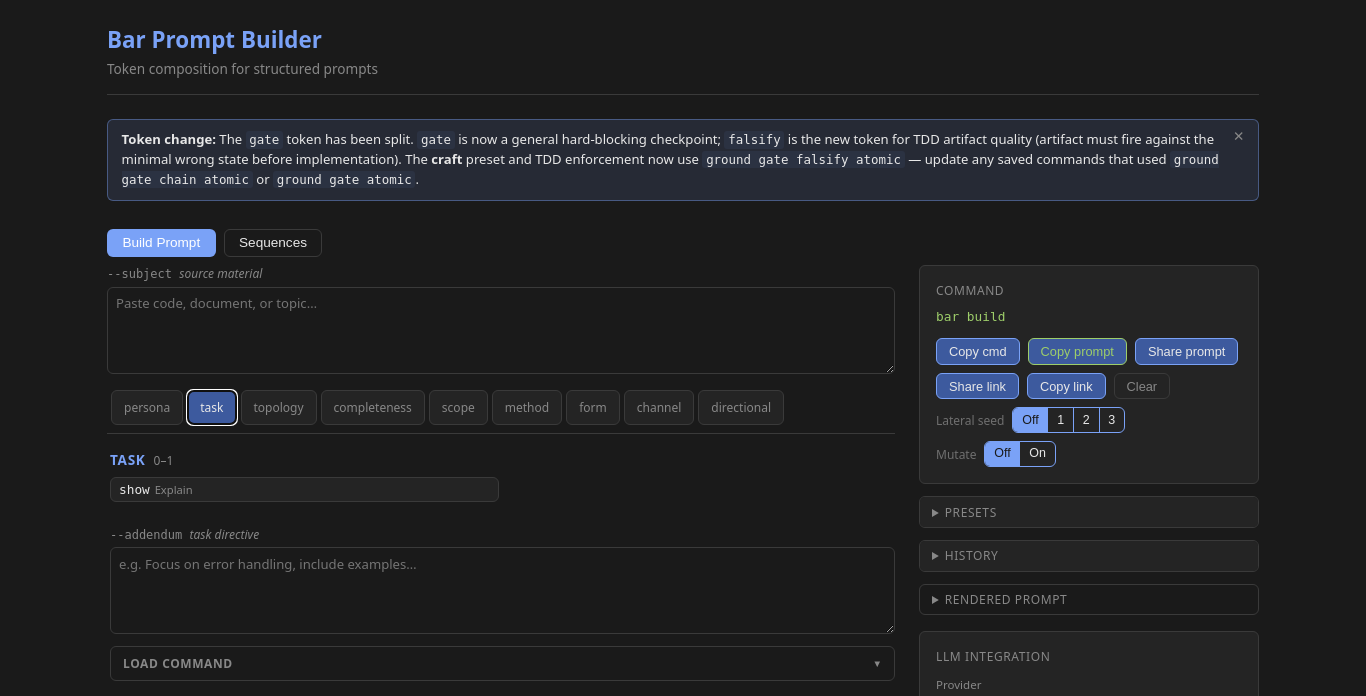
it: Page — Sequences mode › action steps are shown in the step list with a user badge
What coordinates should you click on to do the following:
click the button "Sequences"
I would click on:
 (273, 243)
Its box is [224, 229, 322, 257].
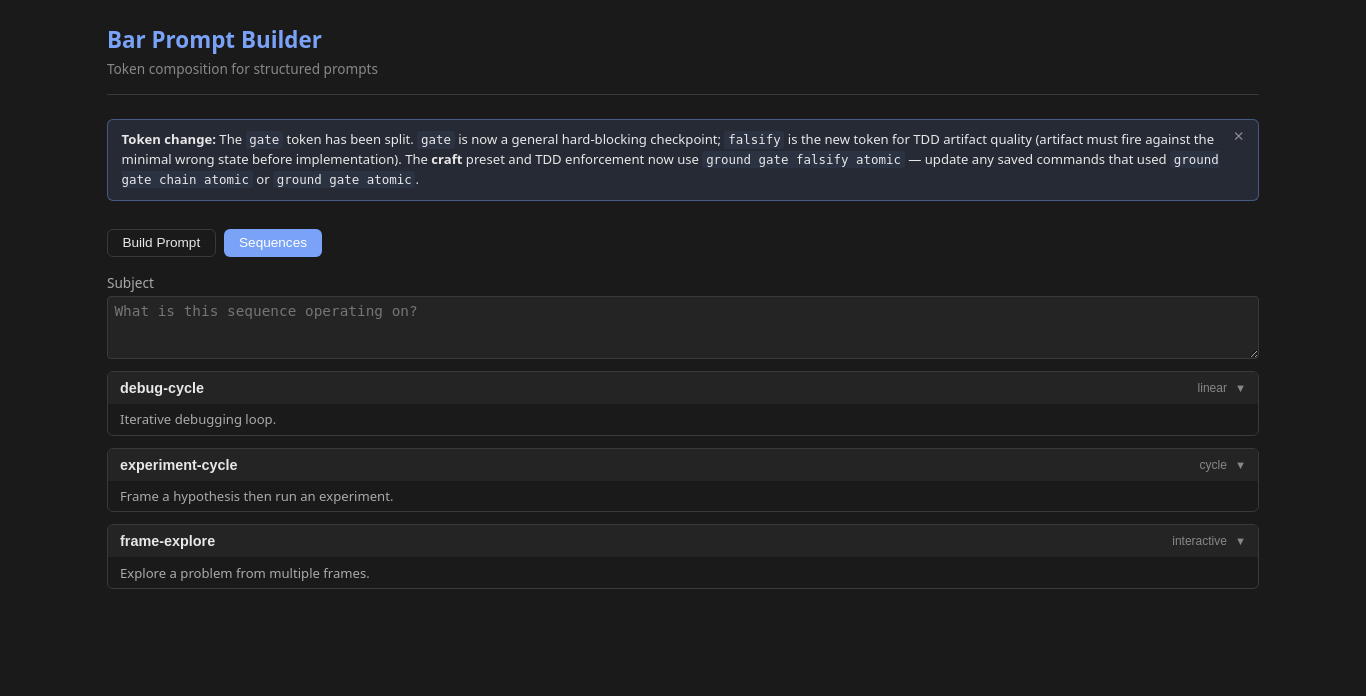
What coordinates should you click on to do the following:
click the button with class "seq-card-header" showing "experiment-cycle cycle ▼"
I would click on:
 (179, 465)
Its box is [108, 449, 1258, 481].
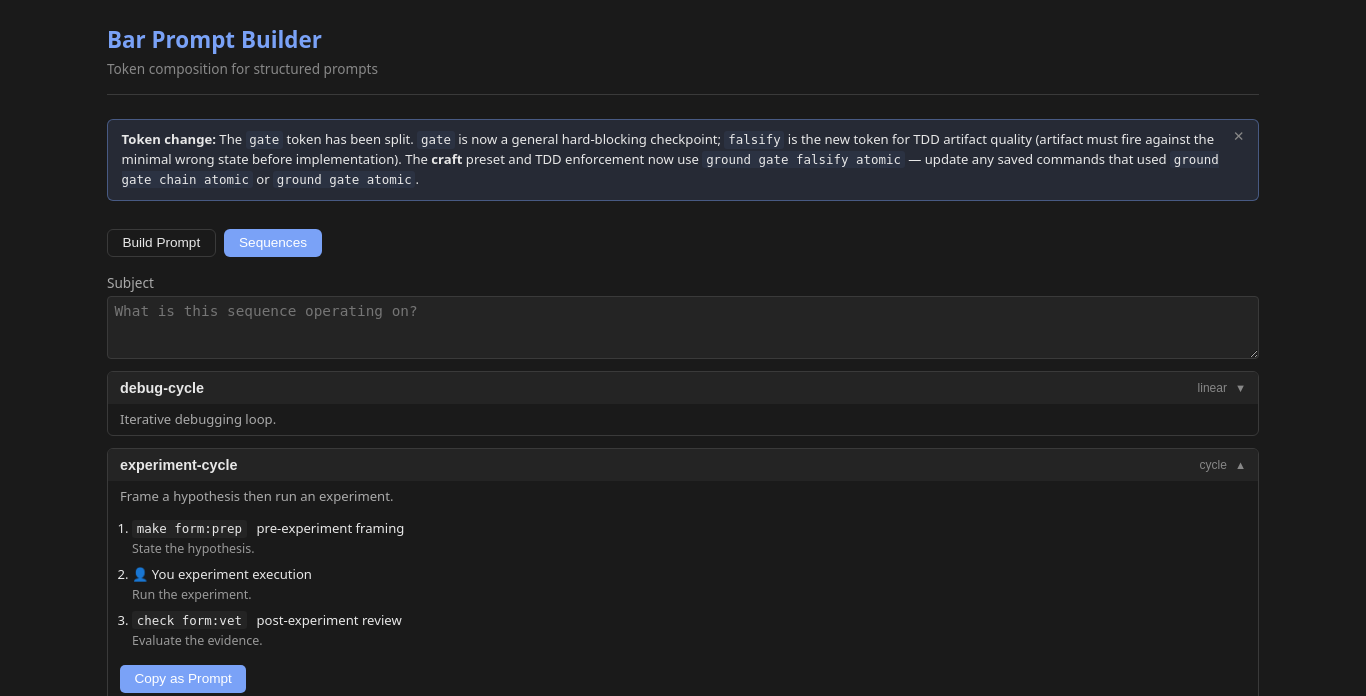
Now the text "experiment execution" is shown, box [178, 565, 312, 583]
Now the text "👤" is shown, box [132, 565, 175, 583]
